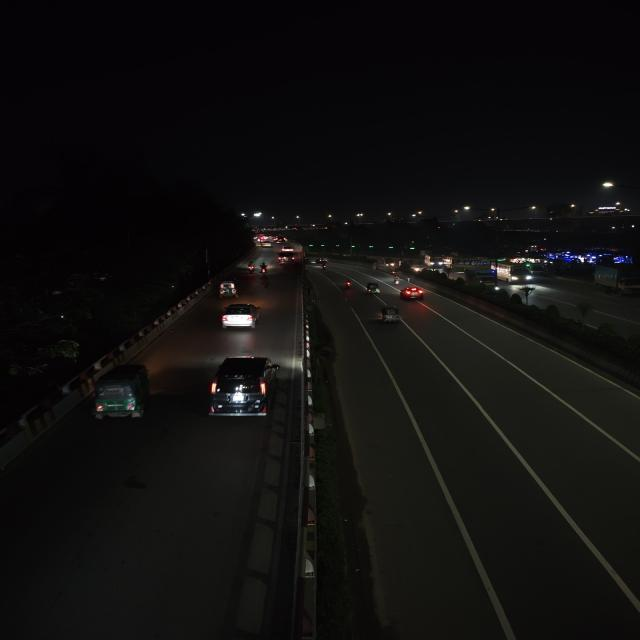bus: (454, 257, 496, 277), (496, 263, 533, 285), (424, 253, 450, 269)
car: (204, 353, 281, 423), (218, 302, 262, 332), (400, 285, 426, 301), (274, 252, 297, 268), (313, 257, 330, 267)
cng: (90, 362, 155, 424), (375, 303, 402, 325), (216, 279, 239, 299), (363, 280, 381, 296)
motorcycle: (342, 278, 354, 291), (245, 263, 258, 275), (258, 262, 270, 274), (391, 276, 402, 286)
truck: (593, 263, 640, 297), (460, 269, 498, 291)
